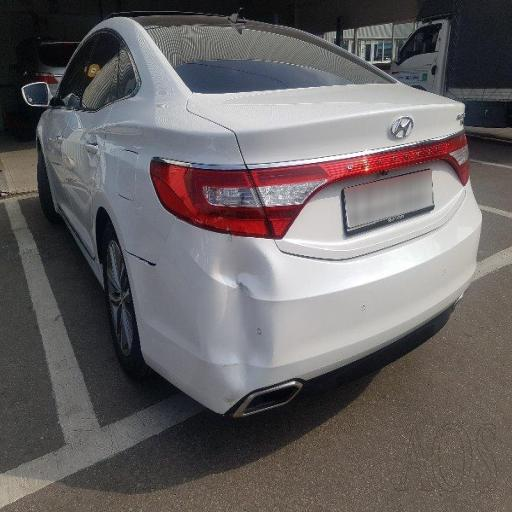broken: (109, 217, 166, 306)
dent: (188, 184, 298, 389)
scratch: (52, 117, 121, 213)
